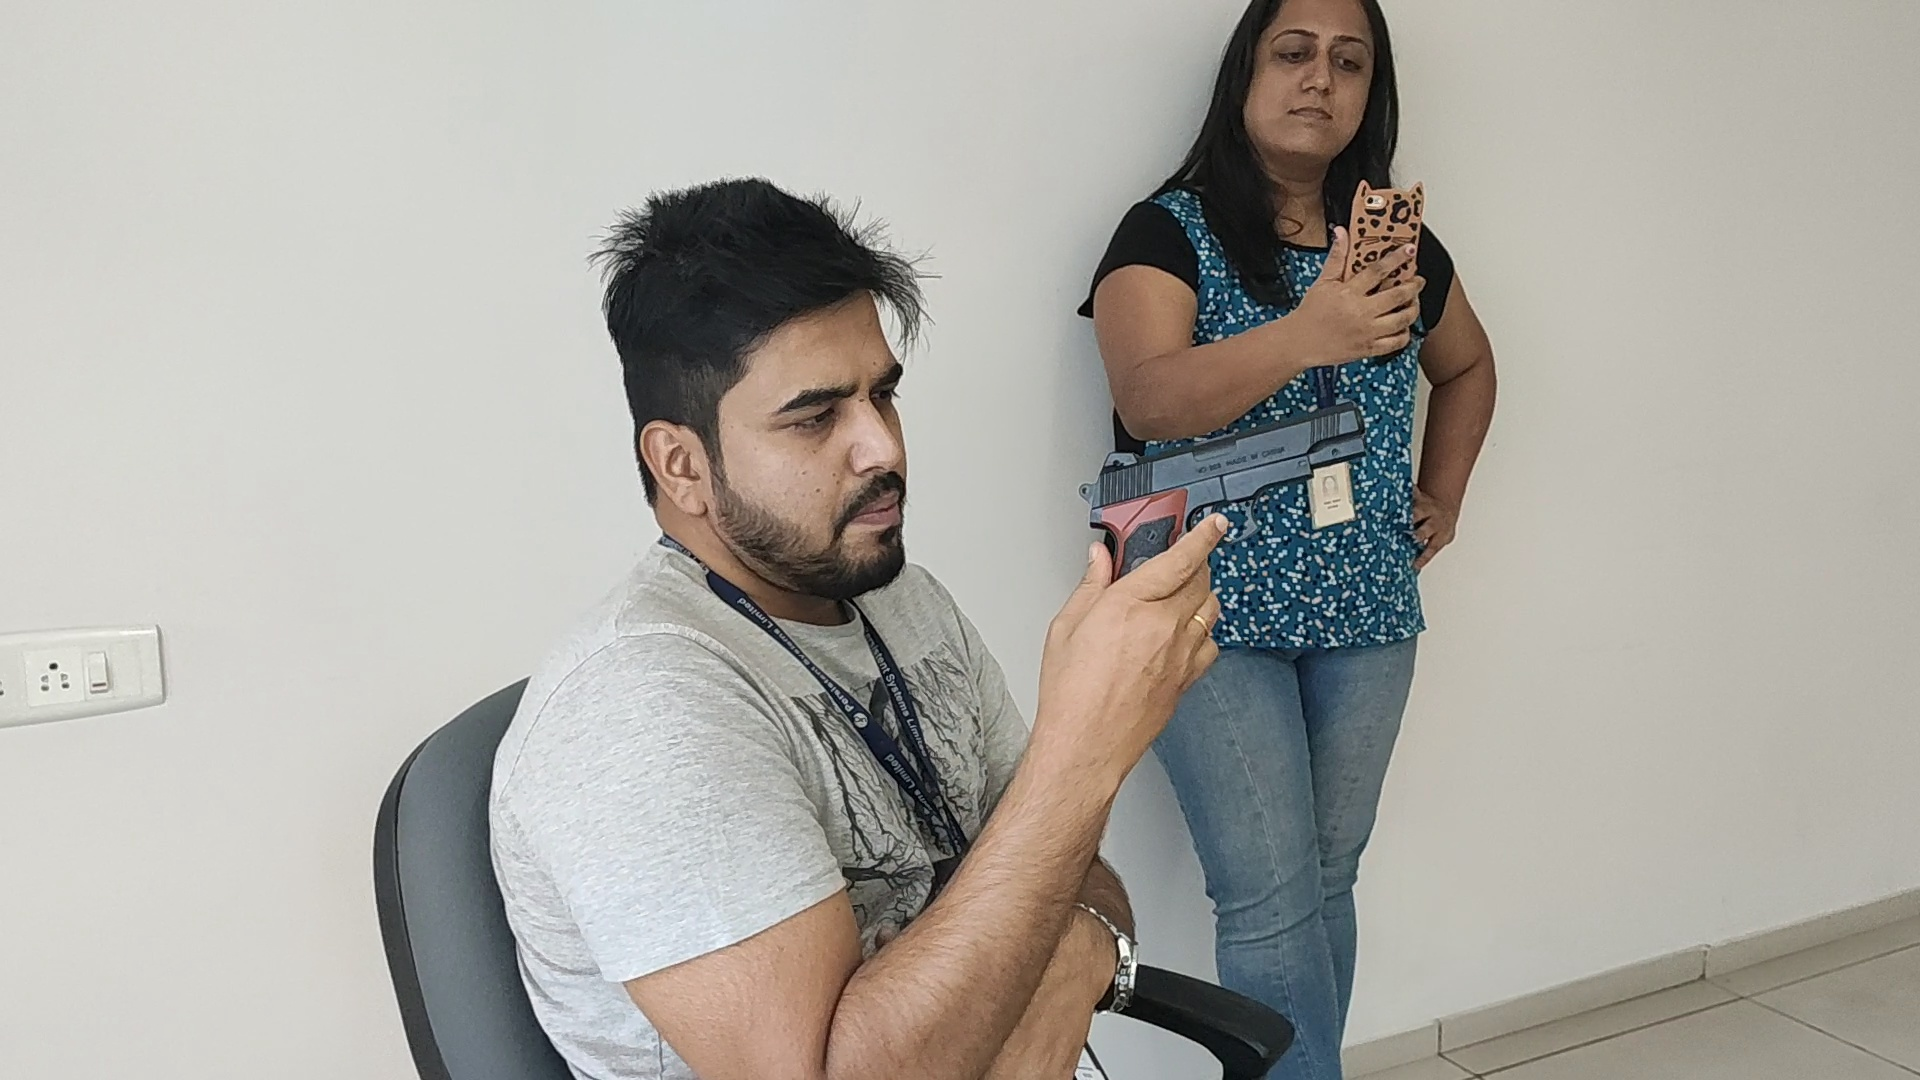gun: (1077, 398, 1367, 512)
